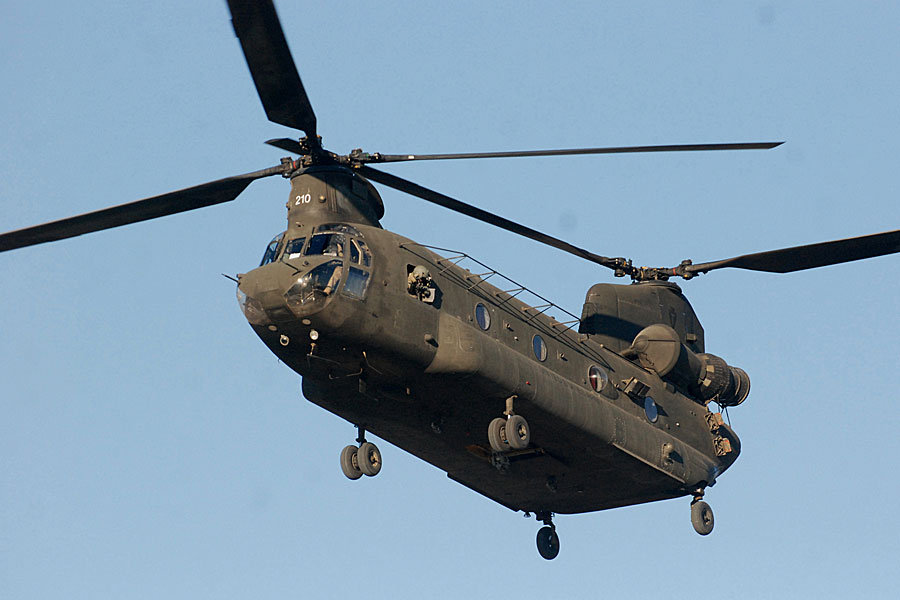MilitaryHelicopter: (249, 94, 756, 558)
